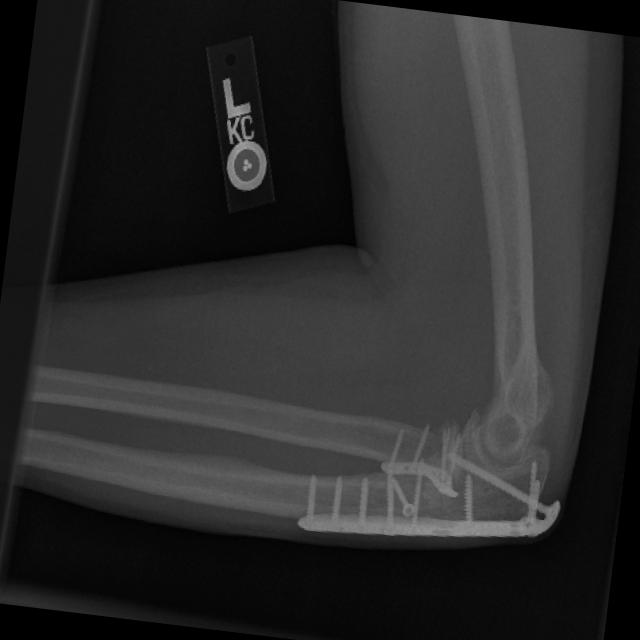elbow positive: (451, 382, 507, 455)
